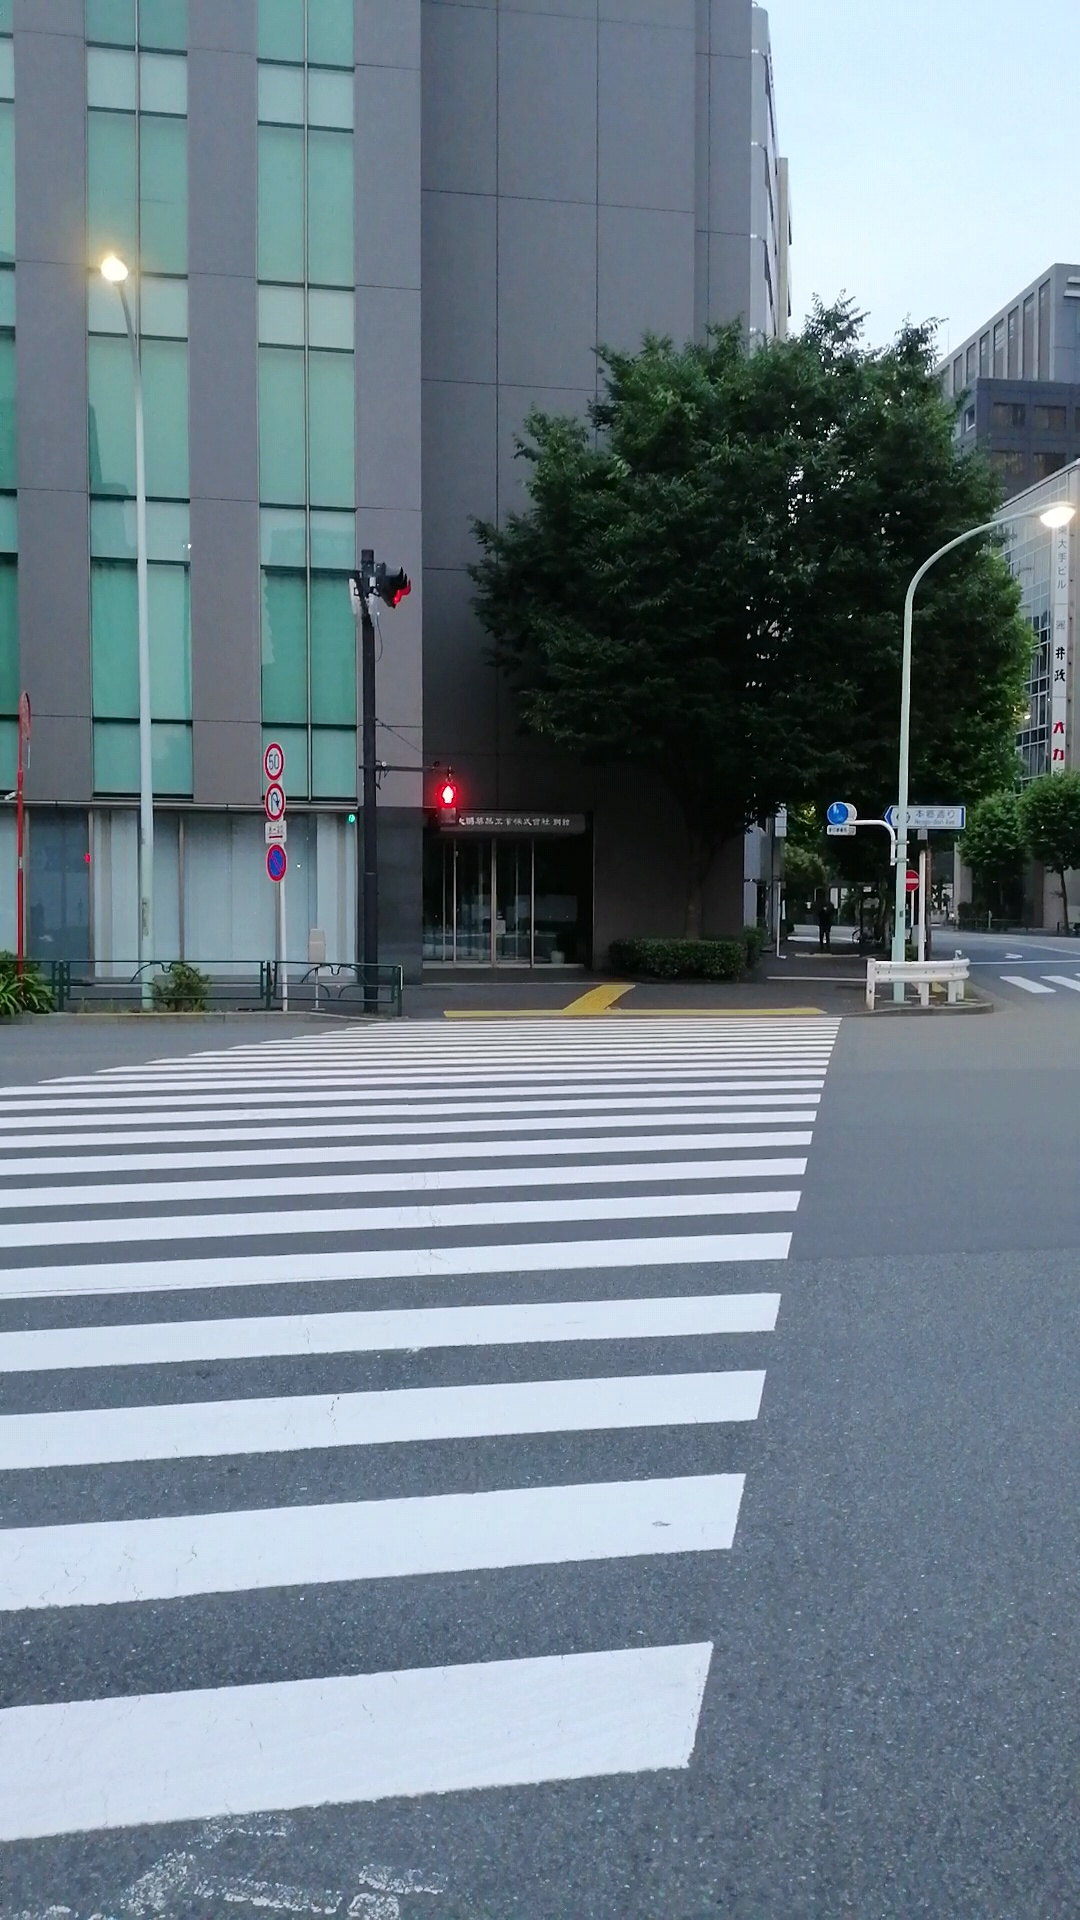red: (435, 781, 459, 829)
